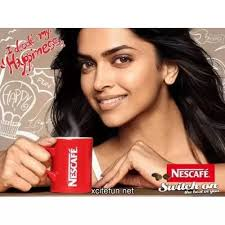nescafe-mug: (37, 135, 98, 191)
